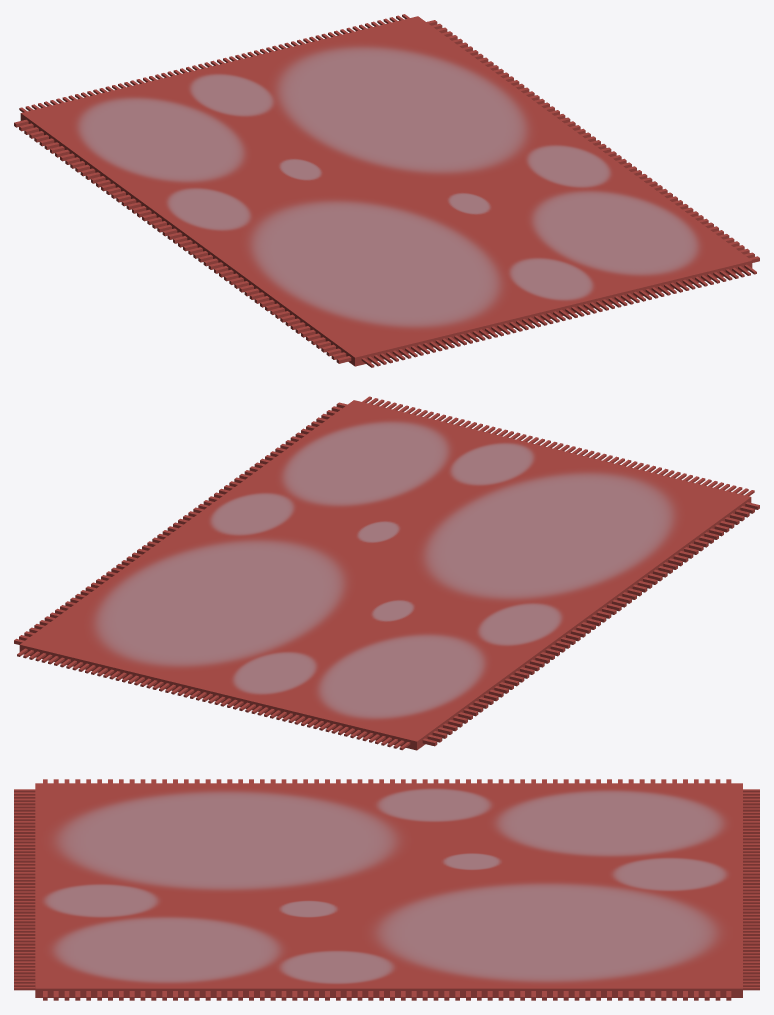
File: kover.fbx
3 renders of one model, top to bottom at view 1: azimuth 30°, elevation 25°; view 2: azimuth 150°, elevation 25°; view 3: azimuth 270°, elevation 25°, orthographic. The views are drawn at different scales.
Parts seen in each view (by area): view 1: kover; view 2: kover; view 3: kover.
Part boxes in pixels (x1,y1,x2,y2): kover: [14, 14, 759, 367]; kover: [14, 396, 759, 750]; kover: [14, 779, 759, 1000].
Bounding box in the file's own units: 1130 × 22.87 × 1638.
1 material, 1 textured.
